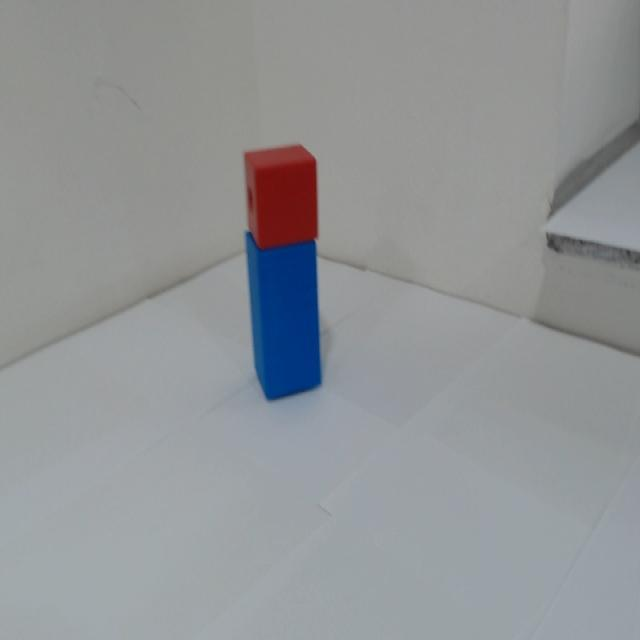cube: (230, 132, 345, 245)
